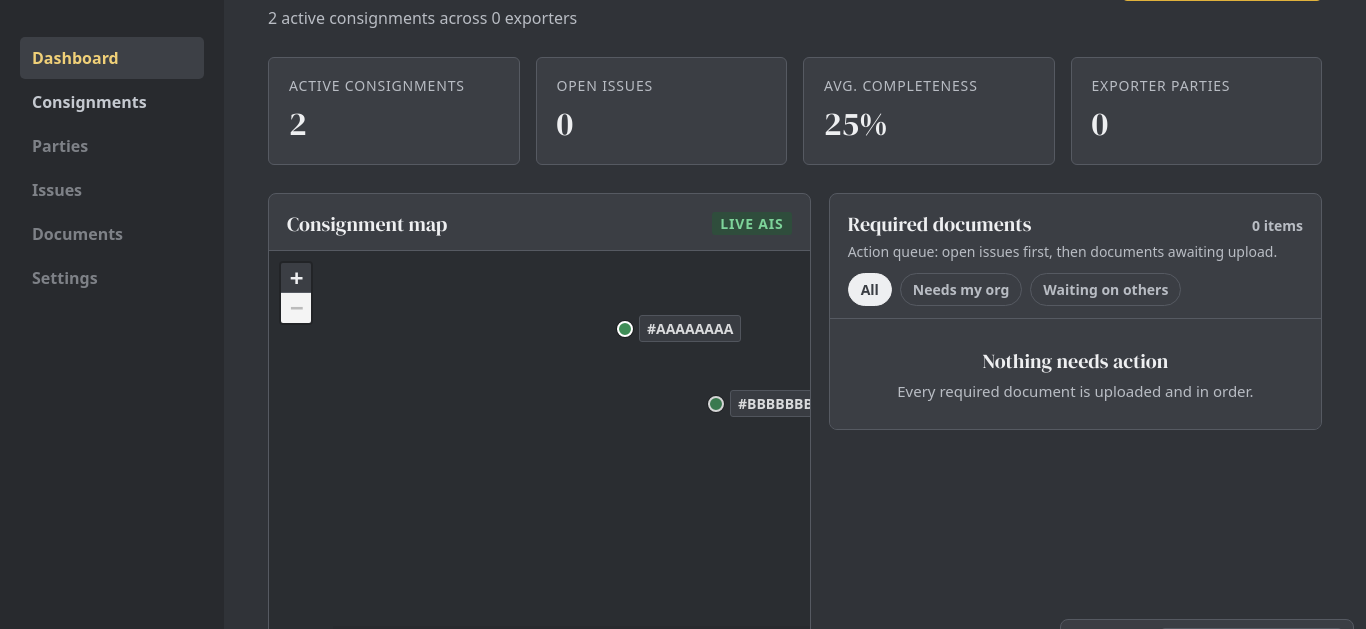
Test: map: trails, and no planned route › selects a consignment when its marker on the map is clicked
Click the 2nd button with class "leaflet-marker-icon": coordinates (716, 404) [708,396,724,412]
(page scrolled)
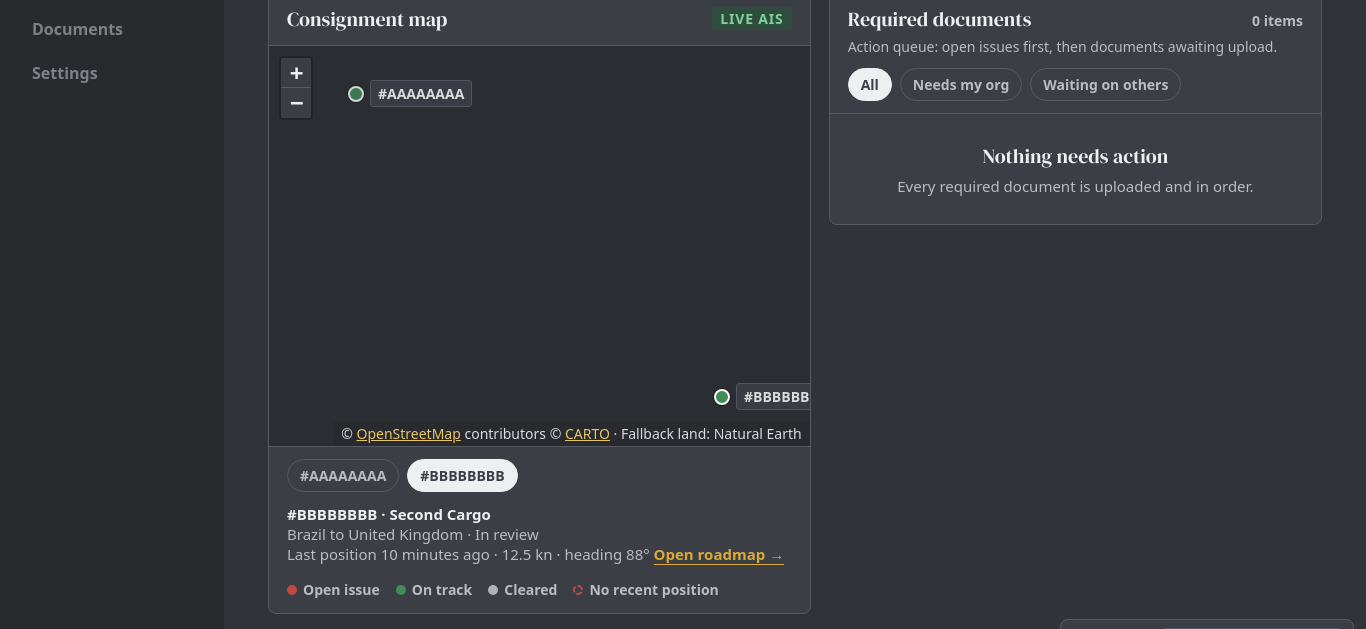
Check: the element "Consignment map" shows "Second Cargo", box [389,504,491,524]
